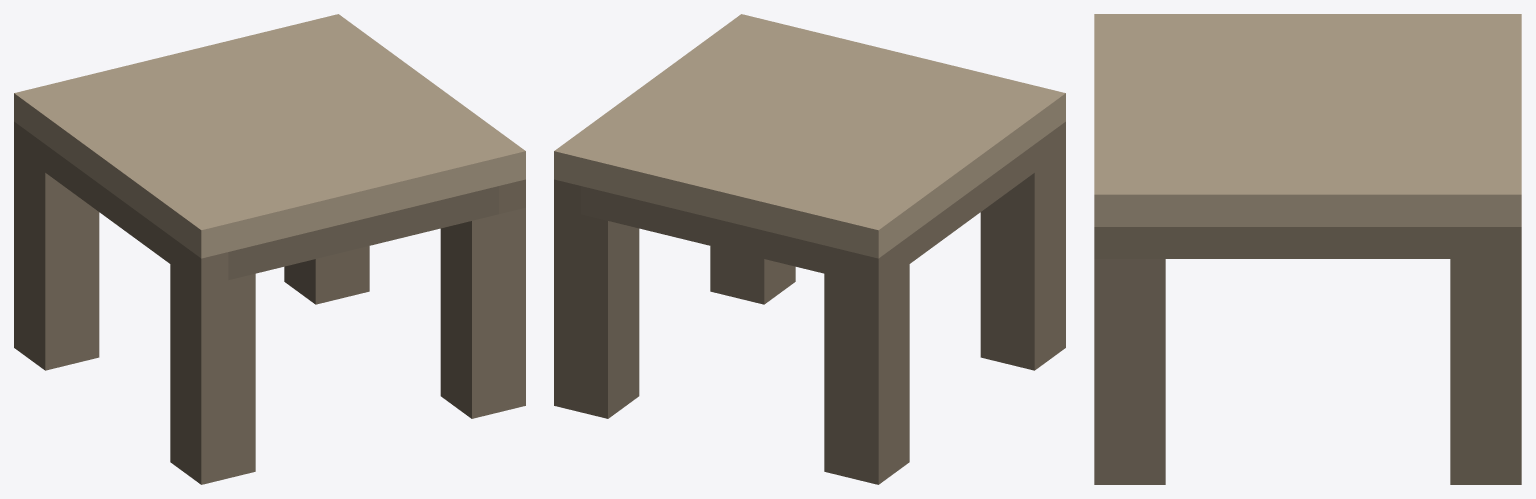
The model's file is mesa_moldes_desgastada_01.glb.
3 renders of one model, left to right at view 1: azimuth 30°, elevation 25°; view 2: azimuth 150°, elevation 25°; view 3: azimuth 270°, elevation 25°, orthographic. The views are drawn at different scales.
Visible parts, largest first — view 1: mesa_moldes_desgastada; view 2: mesa_moldes_desgastada; view 3: mesa_moldes_desgastada.
Part boxes in pixels (x1,y1,x2,y2): mesa_moldes_desgastada: (14,14,525,484); mesa_moldes_desgastada: (554,14,1065,484); mesa_moldes_desgastada: (1094,14,1521,484).
Bounding box in the file's own units: 1 × 0.75 × 1.
